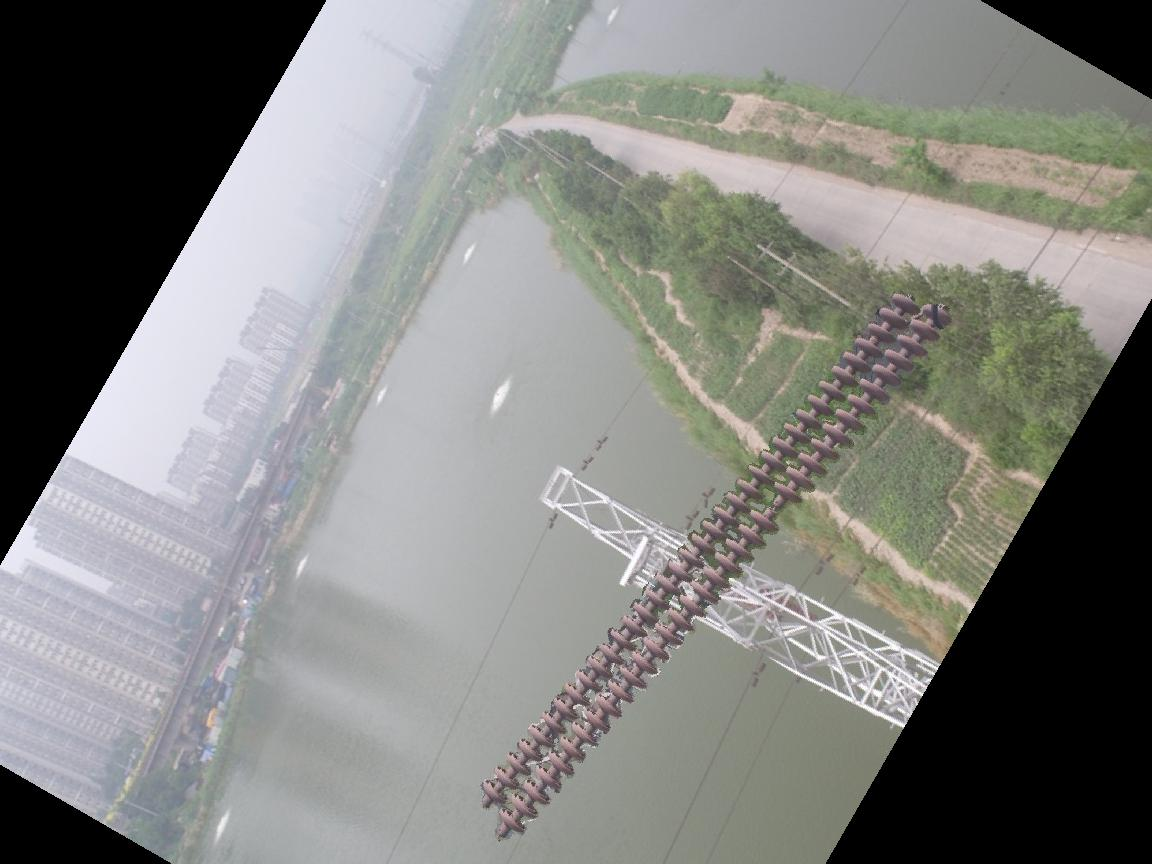insulator: (470, 285, 958, 844)
insulator_stringdrop: (747, 478, 806, 535)
